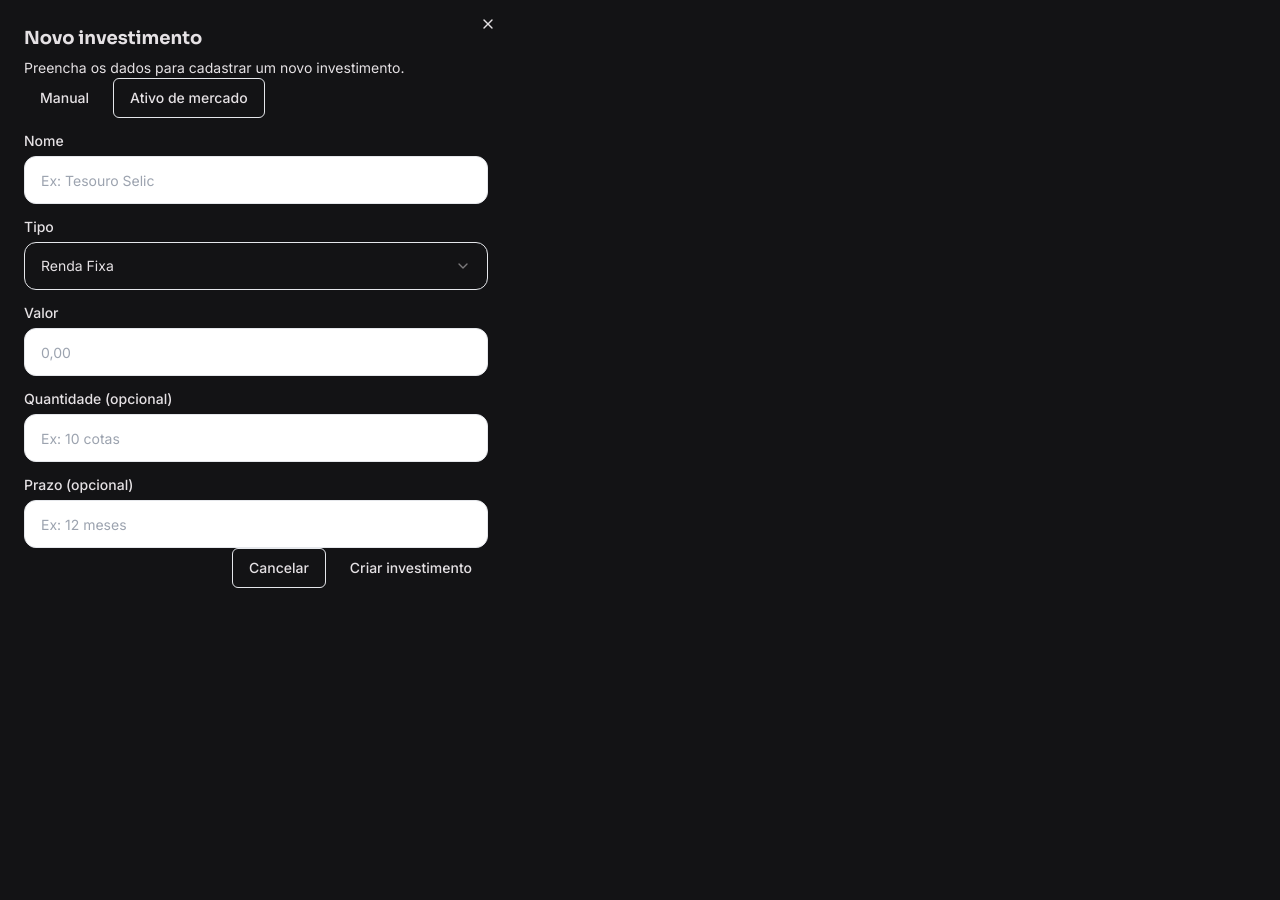
Scenario: InvestmentFormDialog › shows a validation error when submitting an empty name
Step 1. Type "100" into the number field labelled "Valor" → (256, 352), box left=24, top=328, right=488, bottom=376
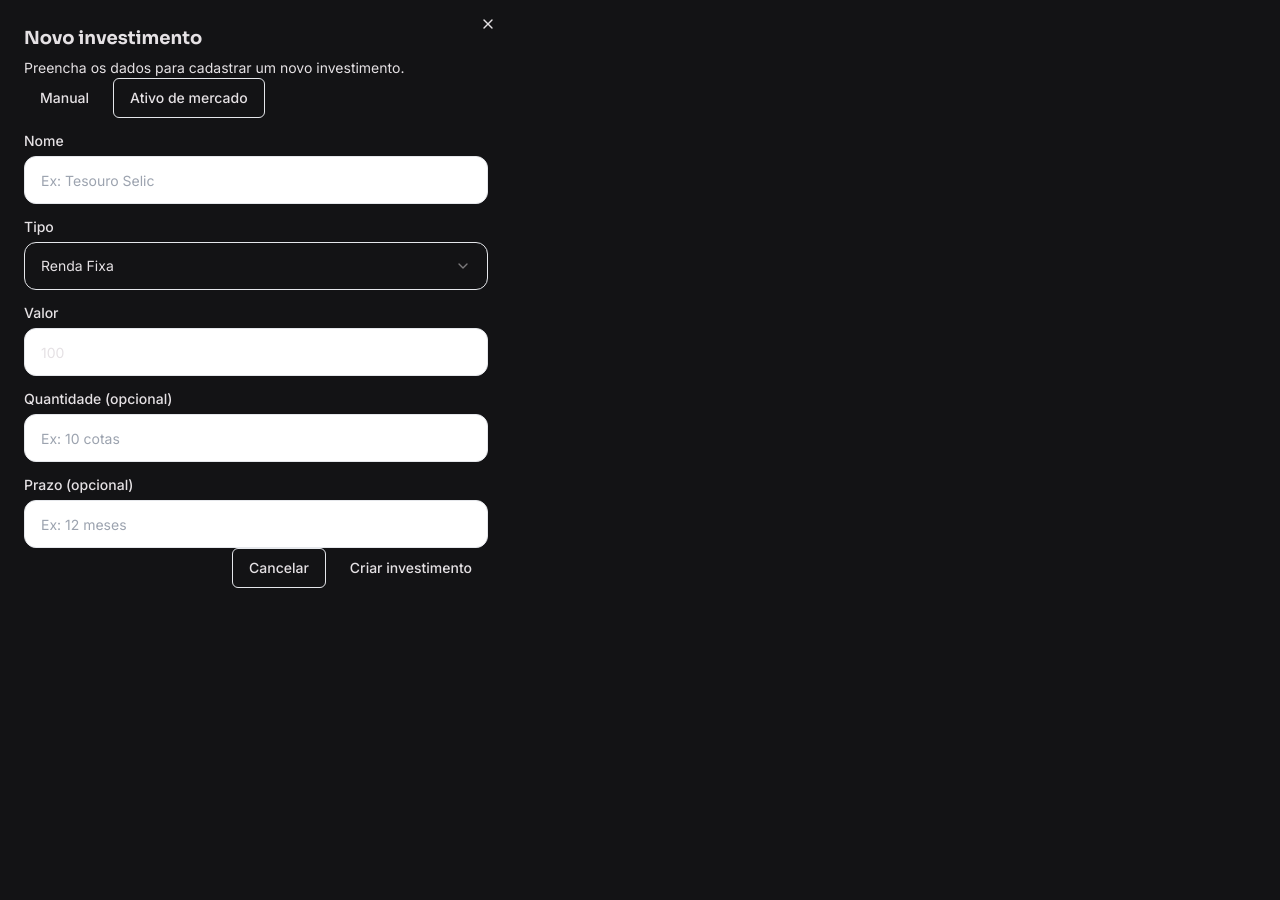
Step 2. Click the button "Criar investimento" → (411, 568), box left=334, top=548, right=488, bottom=588
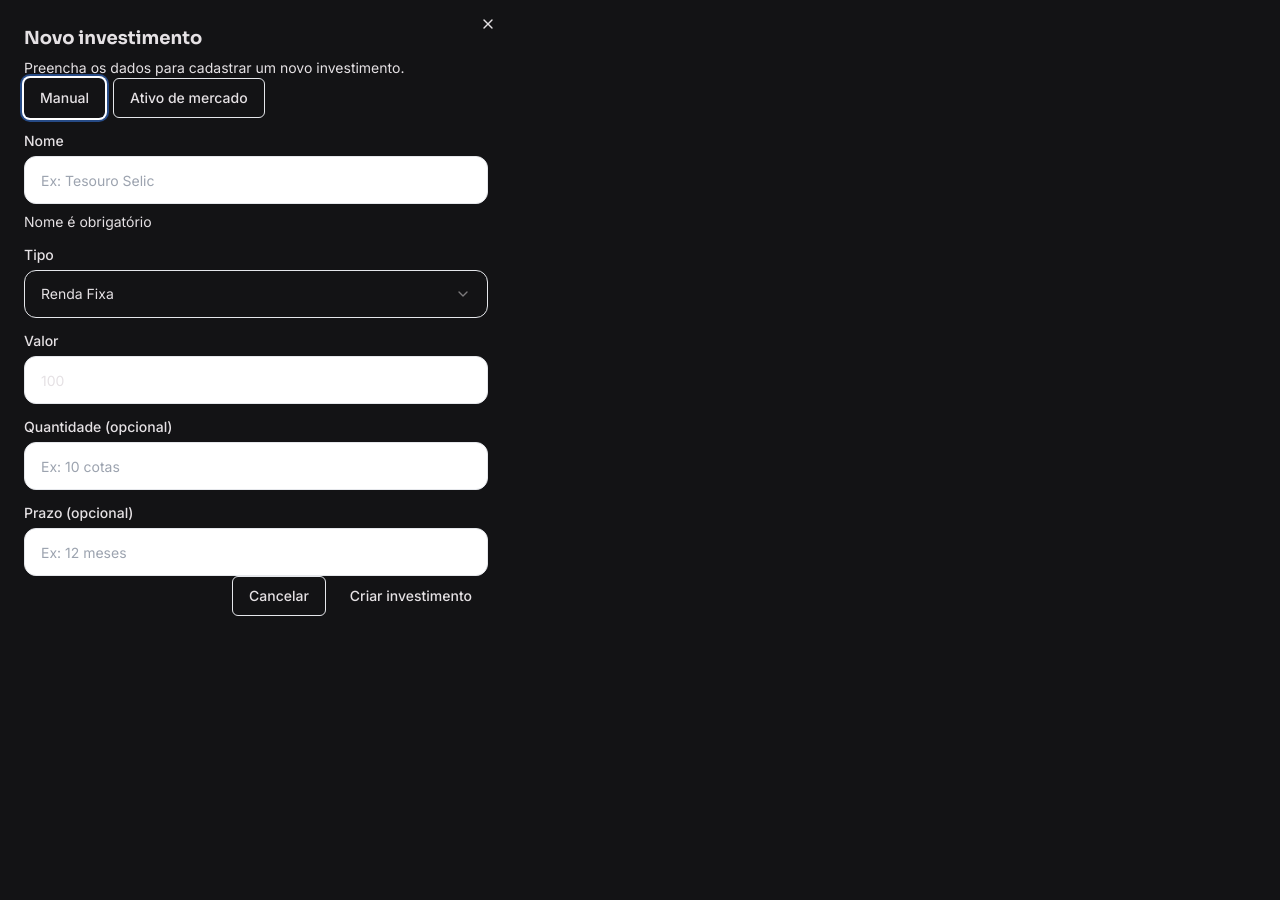
Result: the text "Nome é obrigatório" is shown at left=24, top=213, right=152, bottom=230
